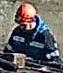helmet: (14, 1, 38, 24)
vest: (9, 26, 55, 62)
